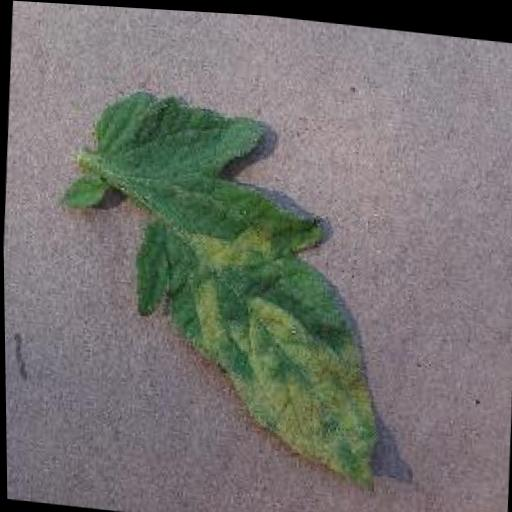Leaf Mold: (73, 80, 399, 498)
